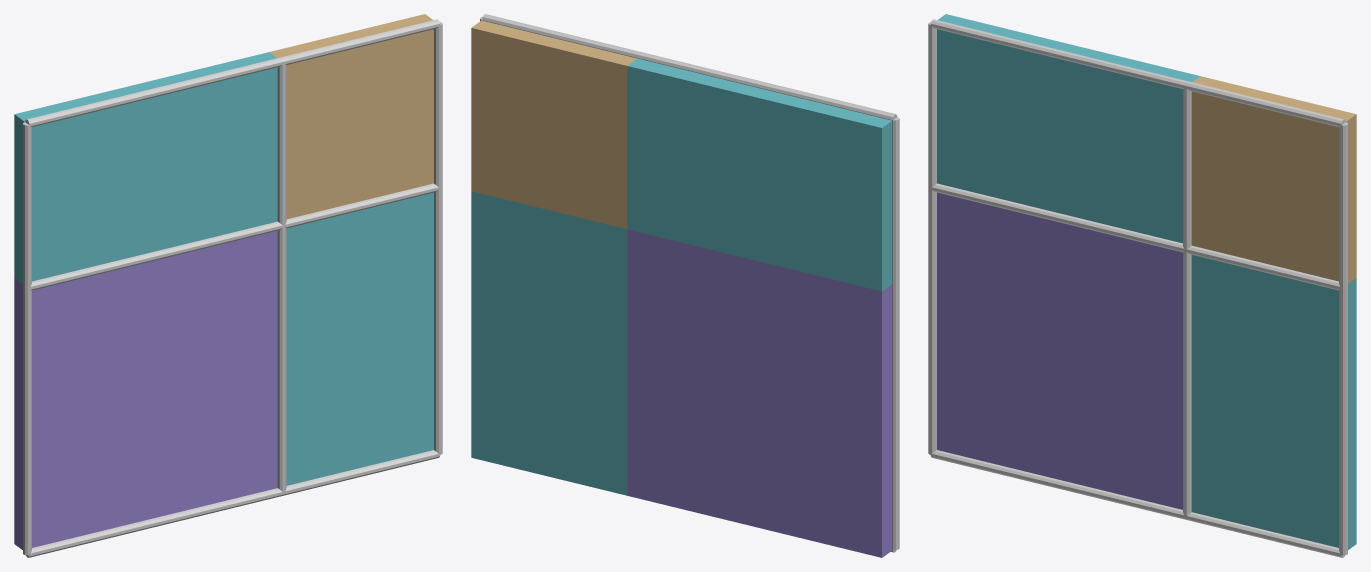
Rendered from identidad_algebraica.glb.
3 renders of one model, left to right at view 1: azimuth 30°, elevation 25°; view 2: azimuth 150°, elevation 25°; view 3: azimuth 330°, elevation 25°, orthographic.
Parts seen in each view (by area): view 1: identidad_algebraica.glb_0, identidad_algebraica.glb_2, identidad_algebraica.glb_1, identidad_algebraica.glb_3, identidad_algebraica.glb_5, identidad_algebraica.glb_9, identidad_algebraica.glb_7, identidad_algebraica.glb_8, identidad_algebraica.glb_4, identidad_algebraica.glb_6; view 2: identidad_algebraica.glb_0, identidad_algebraica.glb_2, identidad_algebraica.glb_1, identidad_algebraica.glb_3, identidad_algebraica.glb_4, identidad_algebraica.glb_9; view 3: identidad_algebraica.glb_0, identidad_algebraica.glb_1, identidad_algebraica.glb_2, identidad_algebraica.glb_3, identidad_algebraica.glb_9, identidad_algebraica.glb_7, identidad_algebraica.glb_8, identidad_algebraica.glb_6, identidad_algebraica.glb_4, identidad_algebraica.glb_5.
Boxes of the visible parts, x1=… form: identidad_algebraica.glb_0: x1=14, y1=230, x2=277, y2=549; identidad_algebraica.glb_2: x1=14, y1=52, x2=277, y2=283; identidad_algebraica.glb_1: x1=286, y1=192, x2=433, y2=485; identidad_algebraica.glb_3: x1=269, y1=14, x2=433, y2=219; identidad_algebraica.glb_5: x1=277, y1=63, x2=286, y2=493; identidad_algebraica.glb_9: x1=25, y1=19, x2=440, y2=126; identidad_algebraica.glb_7: x1=26, y1=450, x2=440, y2=557; identidad_algebraica.glb_8: x1=29, y1=183, x2=438, y2=290; identidad_algebraica.glb_4: x1=23, y1=122, x2=31, y2=555; identidad_algebraica.glb_6: x1=434, y1=22, x2=442, y2=454; identidad_algebraica.glb_0: x1=627, y1=229, x2=892, y2=557; identidad_algebraica.glb_2: x1=627, y1=58, x2=892, y2=291; identidad_algebraica.glb_1: x1=471, y1=191, x2=627, y2=495; identidad_algebraica.glb_3: x1=471, y1=20, x2=637, y2=228; identidad_algebraica.glb_4: x1=892, y1=117, x2=899, y2=550; identidad_algebraica.glb_9: x1=482, y1=14, x2=897, y2=120; identidad_algebraica.glb_0: x1=937, y1=192, x2=1182, y2=509; identidad_algebraica.glb_1: x1=1191, y1=255, x2=1356, y2=549; identidad_algebraica.glb_2: x1=937, y1=14, x2=1200, y2=243; identidad_algebraica.glb_3: x1=1191, y1=76, x2=1356, y2=283; identidad_algebraica.glb_9: x1=930, y1=19, x2=1345, y2=126; identidad_algebraica.glb_7: x1=930, y1=450, x2=1344, y2=557; identidad_algebraica.glb_8: x1=932, y1=183, x2=1340, y2=290; identidad_algebraica.glb_6: x1=1339, y1=122, x2=1347, y2=555; identidad_algebraica.glb_4: x1=928, y1=22, x2=936, y2=454; identidad_algebraica.glb_5: x1=1183, y1=87, x2=1191, y2=516.
Size of the model in its own units: 1.07 by 1.07 by 0.0669.
